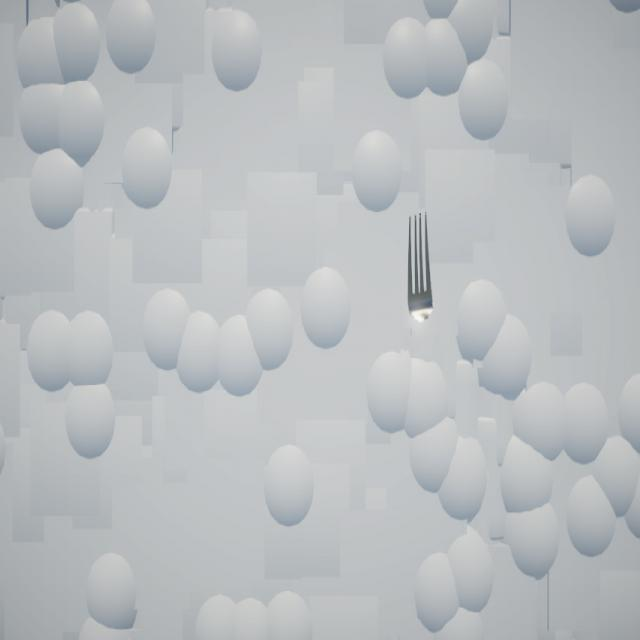top_folk: (408, 213, 434, 322)
